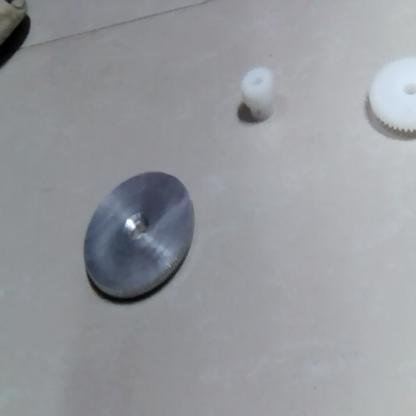FOD: (78, 169, 202, 301), (362, 44, 415, 138), (238, 60, 284, 124)
